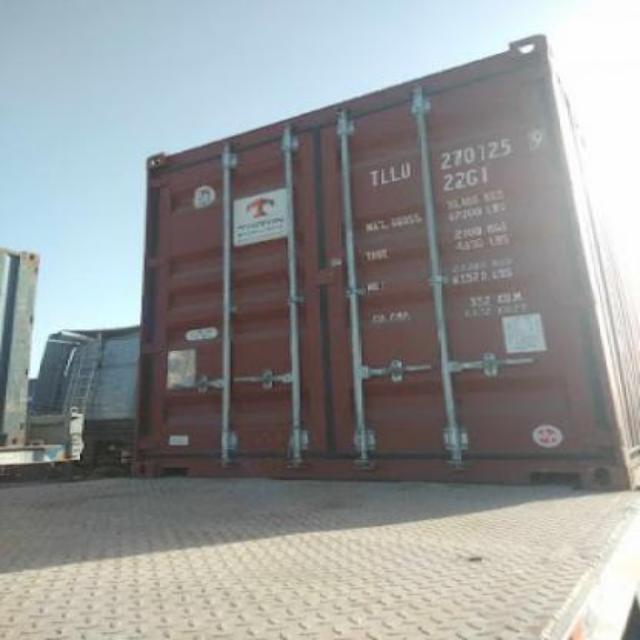0: (462, 147, 476, 163)
1: (478, 144, 488, 164)
2: (486, 142, 502, 160), (442, 153, 452, 171)
5: (501, 138, 514, 156)
7: (454, 150, 462, 166)
9: (530, 132, 544, 148)
L: (378, 167, 390, 185), (388, 166, 400, 184)
T: (368, 169, 382, 187)
U: (400, 161, 412, 179)
